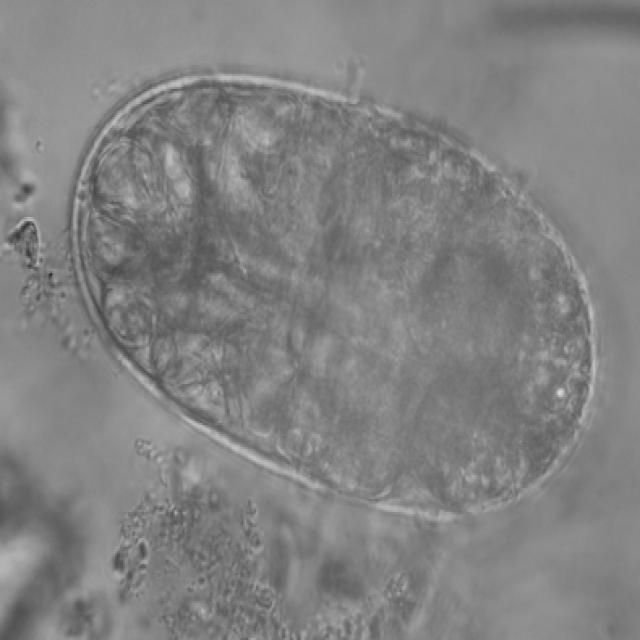Fasciola Hepatica: (64, 59, 612, 532)
